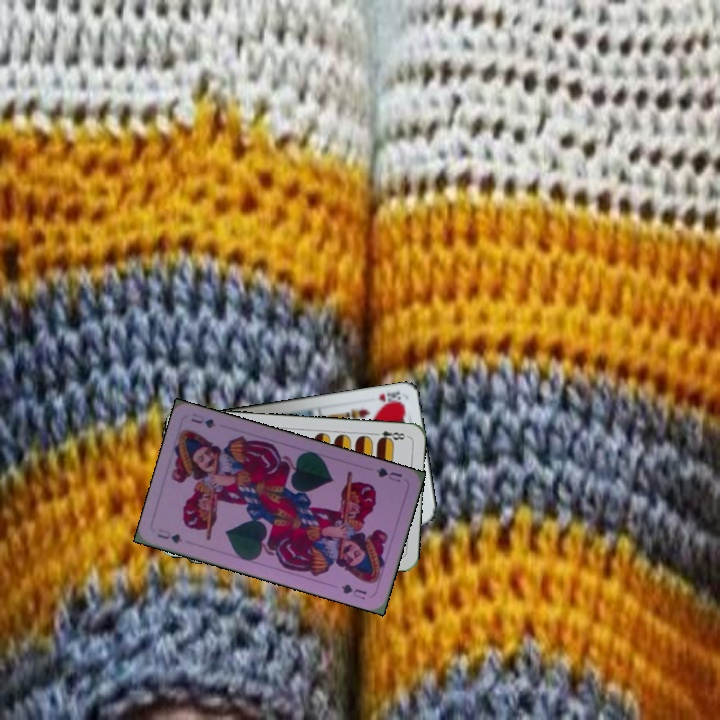E8: (369, 427, 410, 445)
GU: (372, 463, 405, 485), (153, 525, 184, 546)
HK: (375, 387, 403, 408)
